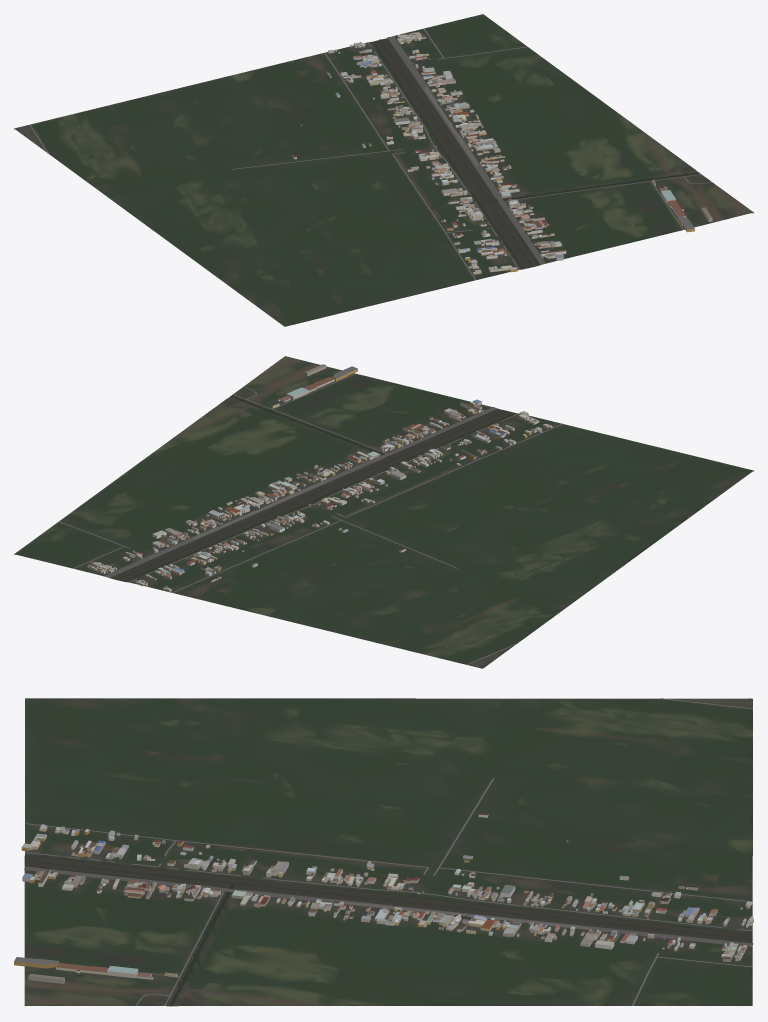
3 renders of one model, top to bottom at view 1: azimuth 30°, elevation 25°; view 2: azimuth 150°, elevation 25°; view 3: azimuth 270°, elevation 25°, orthographic. The views are drawn at different scales.
Visible parts, largest first — view 1: ground, buildings, water, roads; view 2: ground, buildings, water, roads; view 3: ground, buildings, water, roads.
Boxes of the visible parts, bbox=[...] form: ground: bbox=[14, 14, 753, 326]; buildings: bbox=[292, 32, 712, 274]; water: bbox=[374, 38, 699, 268]; roads: bbox=[14, 28, 712, 280]; ground: bbox=[14, 356, 753, 668]; buildings: bbox=[87, 364, 552, 591]; water: bbox=[112, 389, 514, 581]; roads: bbox=[58, 373, 562, 668]; ground: bbox=[24, 698, 752, 1006]; buildings: bbox=[14, 813, 753, 983]; water: bbox=[24, 855, 752, 1006]; roads: bbox=[24, 698, 753, 1005].
Bounding box in the file's own units: 1402 × 15.77 × 1424.
